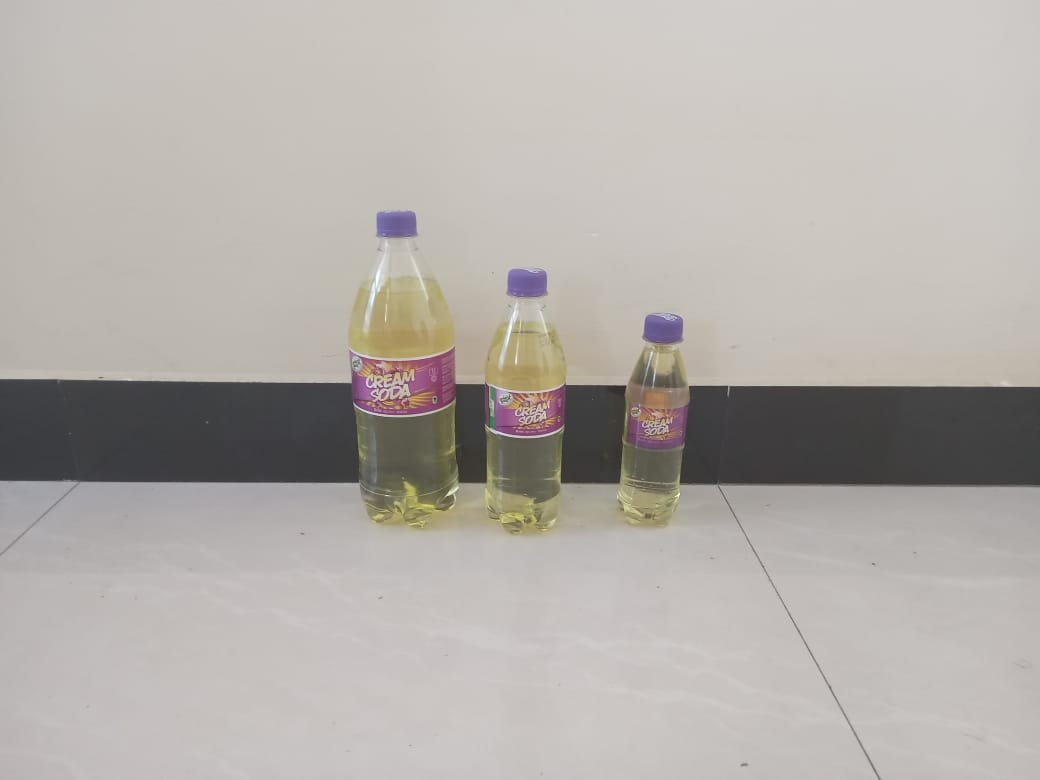M: (345, 208, 458, 531)
S: (484, 269, 568, 536)
Xs: (616, 312, 691, 532)
